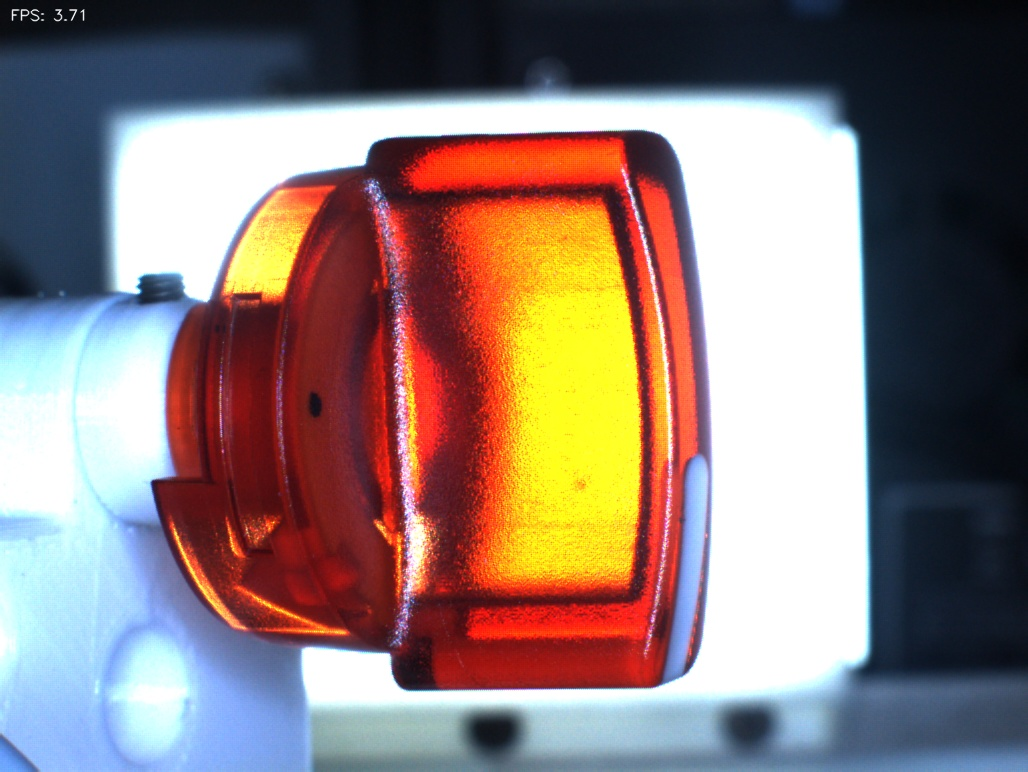PointNoir: (281, 360, 356, 442)
